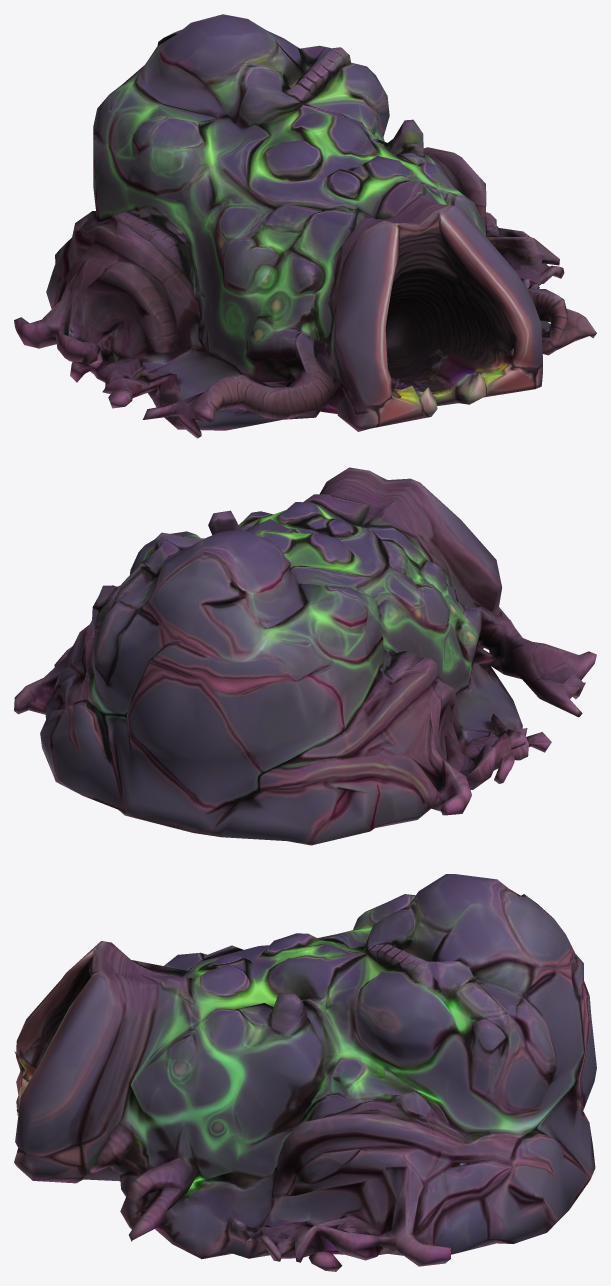
Rendered from swarm_ultralisk_cavern.glb.
The picture shows the model from 3 angles, top to bottom: view 1: azimuth 30°, elevation 25°; view 2: azimuth 150°, elevation 25°; view 3: azimuth 270°, elevation 25°; orthographic projection. The views are drawn at different scales.
Bounding box in the file's own units: 1.96 × 1.06 × 2.
1 material, 1 textured.
